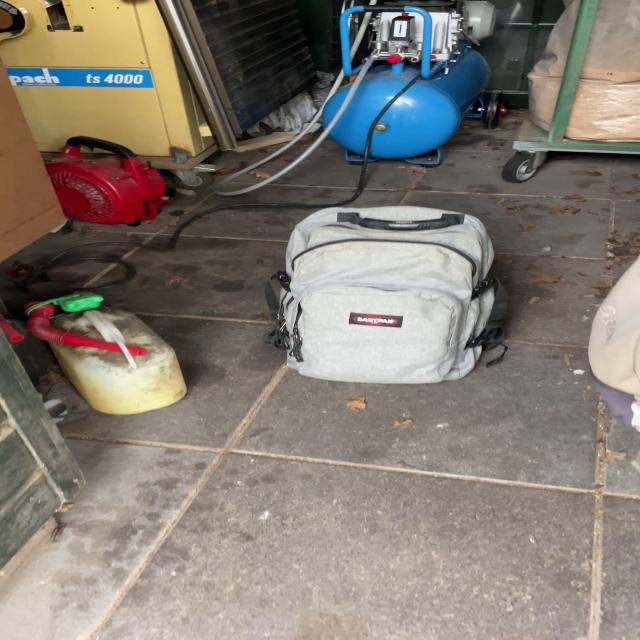backpack: (252, 199, 519, 391)
